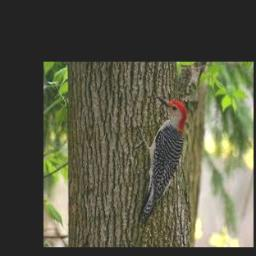Woodpecker: (135, 95, 187, 219)
